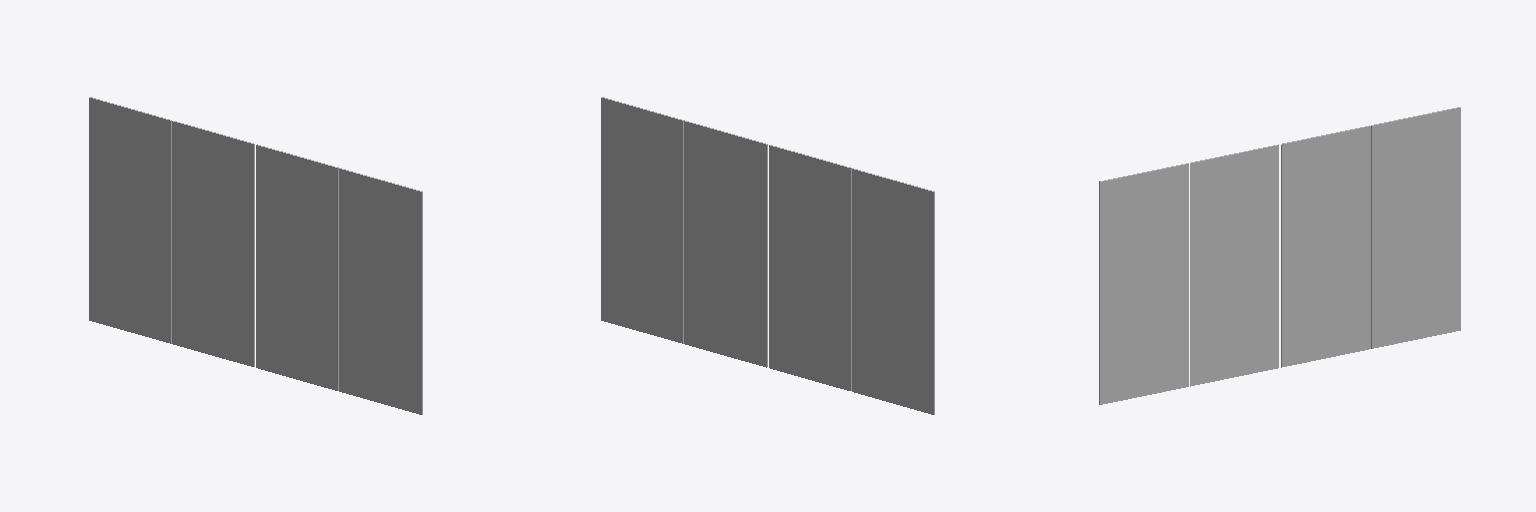
File: puertavidrio6.obj
3 renders of one model, left to right at view 1: azimuth 30°, elevation 25°; view 2: azimuth 210°, elevation 25°; view 3: azimuth 270°, elevation 25°, orthographic.
Visible parts, largest first — view 1: glass_door01_obj6:Object004 pasted__pasted__group2 pasted__group; view 2: glass_door01_obj6:Object004 pasted__pasted__group2 pasted__group; view 3: glass_door01_obj6:Object004 pasted__pasted__group2 pasted__group.
Part boxes in pixels (left/top/right/bottom): glass_door01_obj6:Object004 pasted__pasted__group2 pasted__group: left=89, top=97, right=422, bottom=414; glass_door01_obj6:Object004 pasted__pasted__group2 pasted__group: left=601, top=97, right=934, bottom=414; glass_door01_obj6:Object004 pasted__pasted__group2 pasted__group: left=1099, top=107, right=1460, bottom=404.
Size of the model in its own units: 1.9 by 2.63 by 3.85.